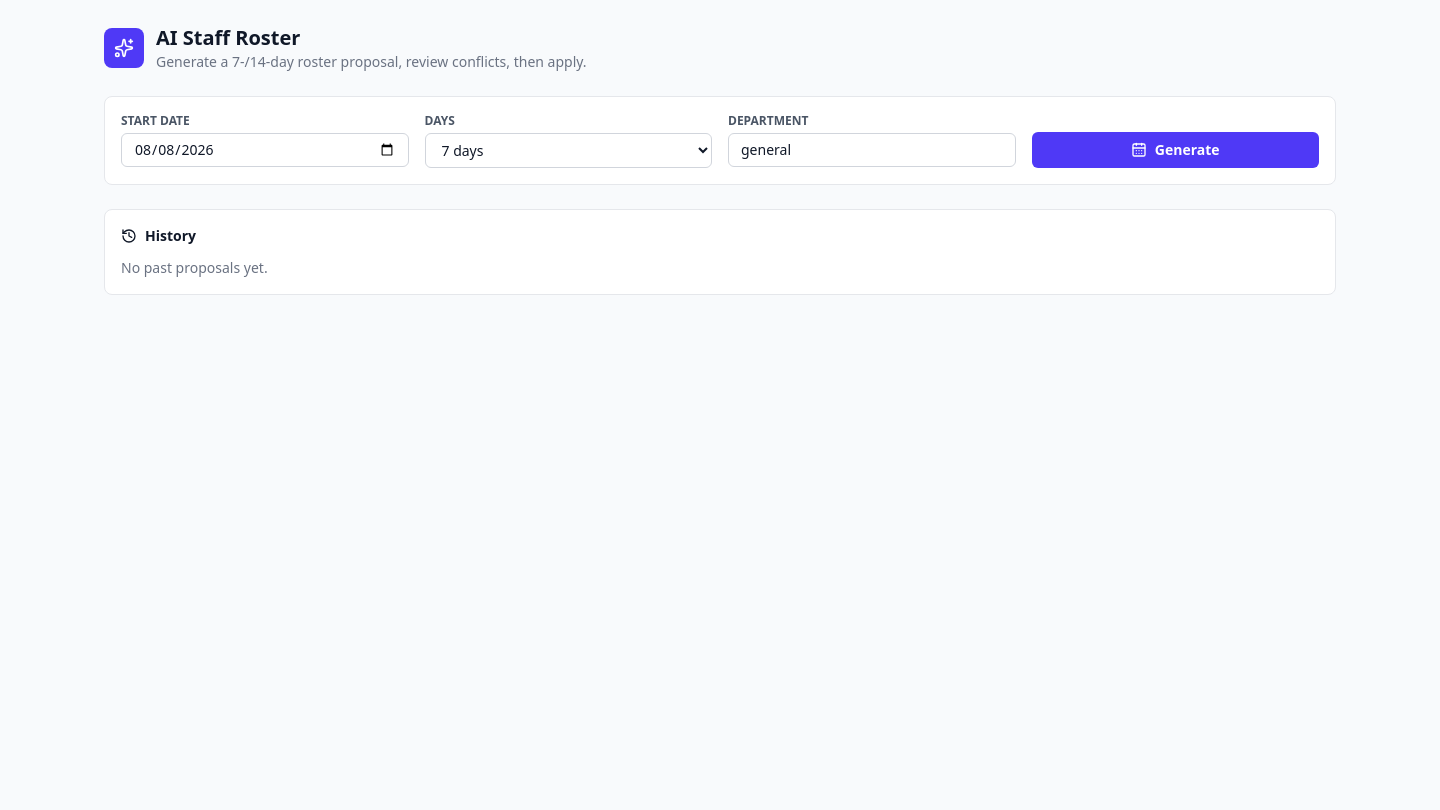
Test case: AI Staff Roster dashboard page › opens the confirm modal on Apply, POSTs /ai/roster/apply with confirm:true, surfaces the success toast and reloads history
Click the button "Generate".
click(1175, 150)  # box [1032, 132, 1319, 168]
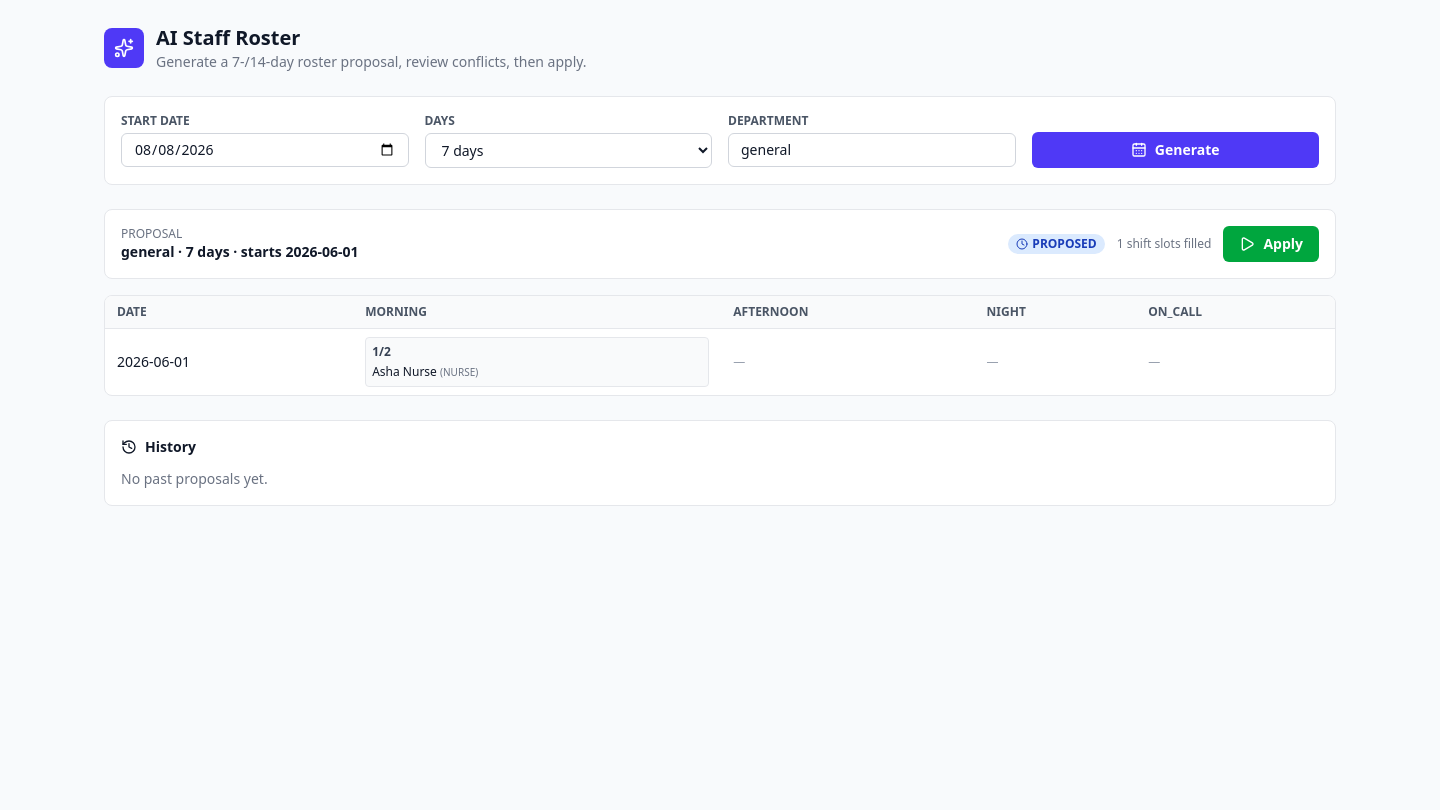
expect the button "Apply" is shown: met
Click the button "Apply".
click(1271, 244)  # box [1223, 226, 1319, 262]
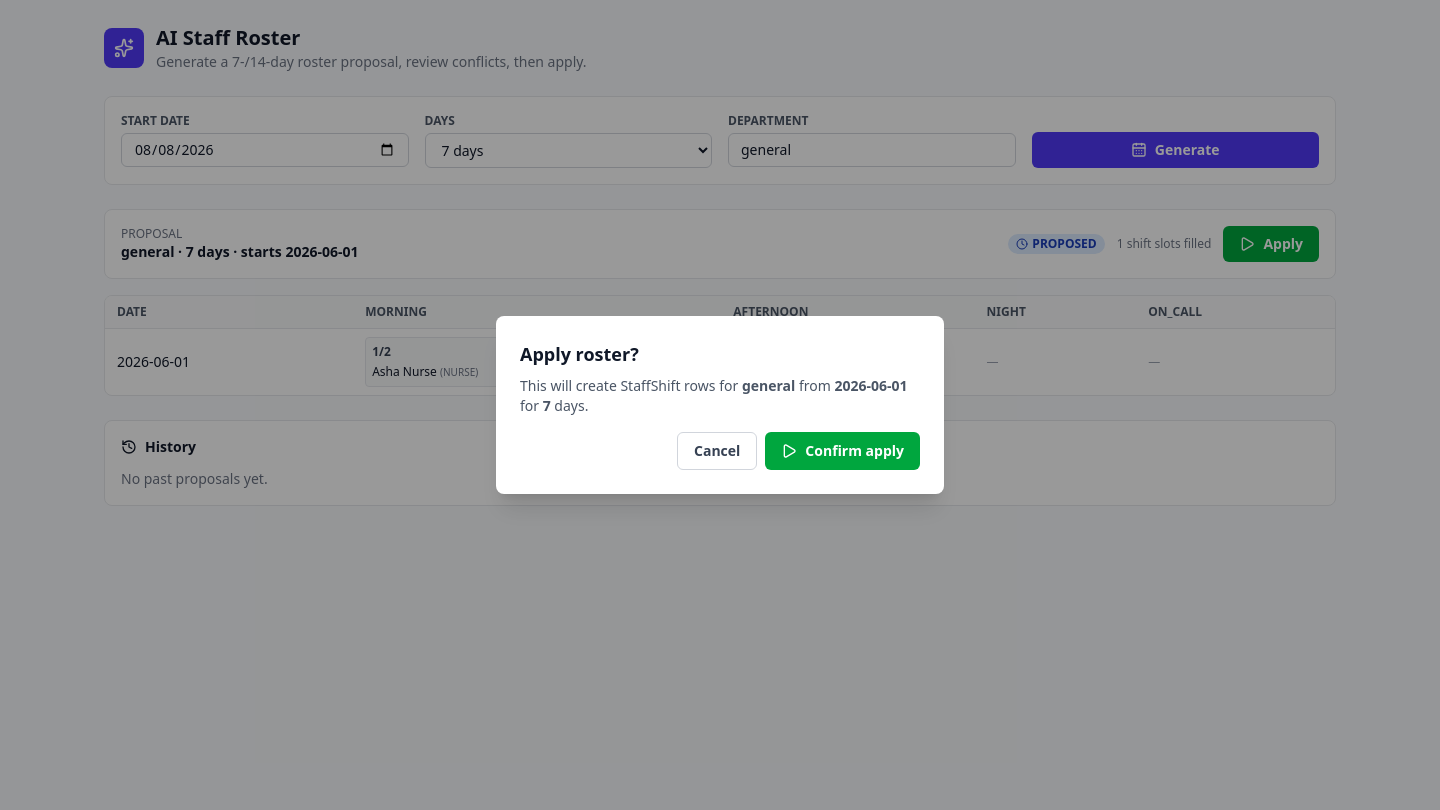
expect the heading "Apply roster?" is shown: met, box [520, 342, 639, 366]
Click the button "Confirm apply".
click(843, 451)  # box [765, 432, 920, 470]
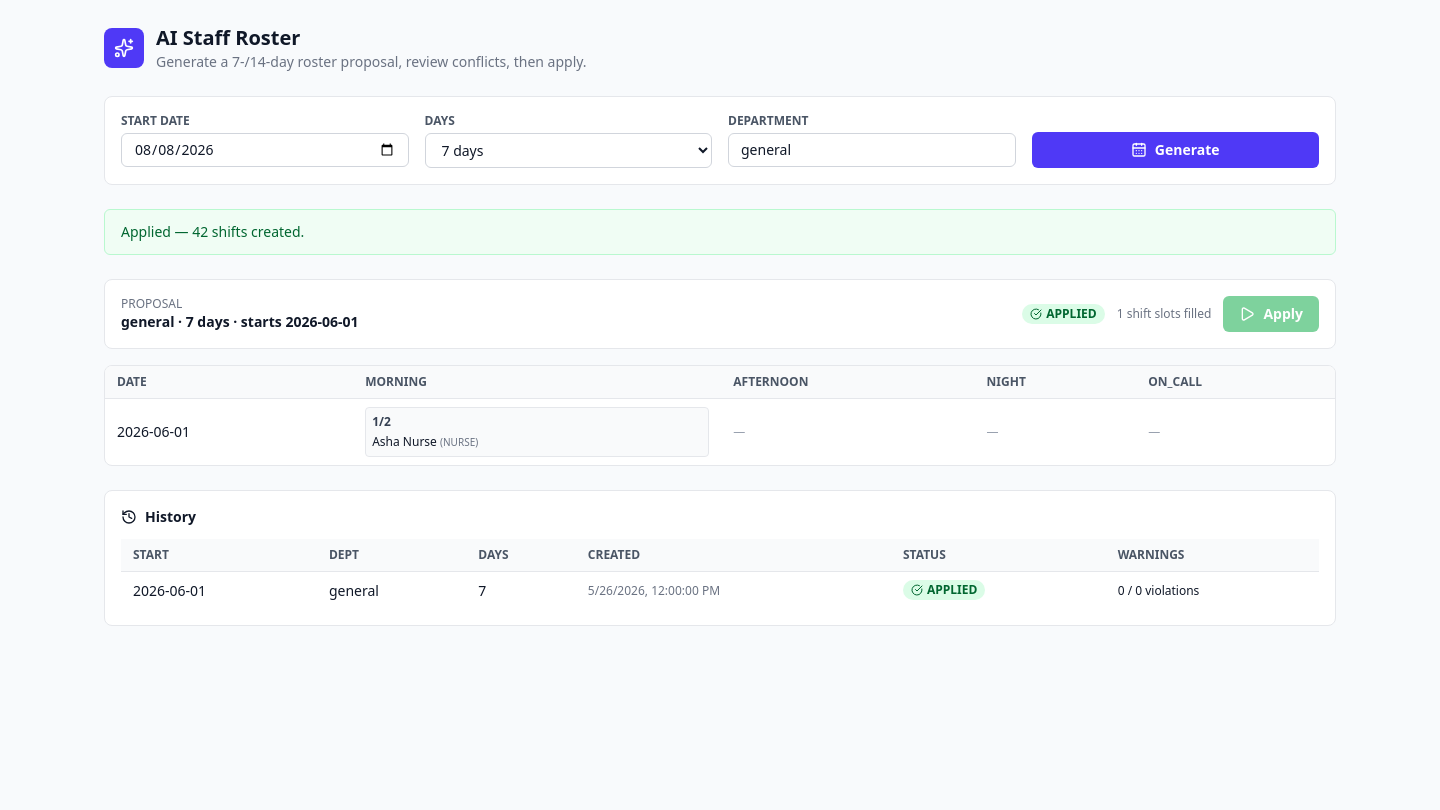
expect the text "Applied — 42 shifts created." is shown: met, box [104, 209, 1336, 255]
